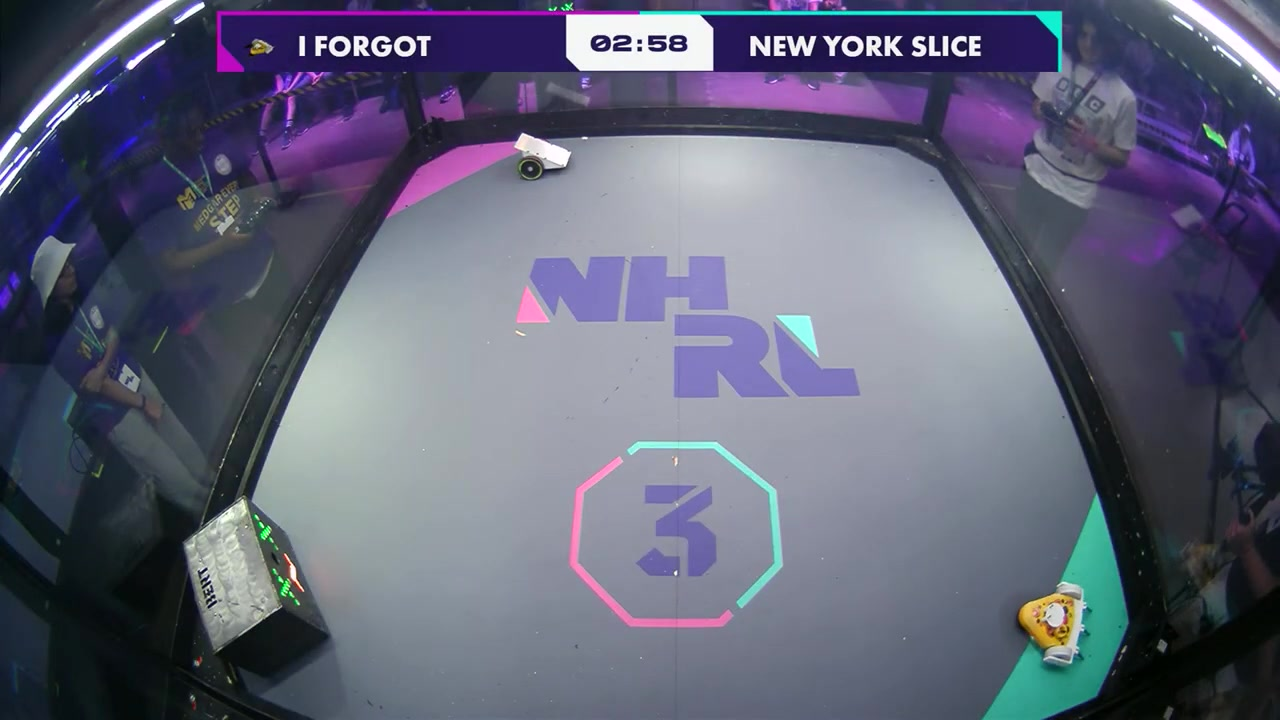combatbot: (1015, 581, 1087, 670), (513, 133, 575, 178)
housebot: (183, 498, 329, 678)
